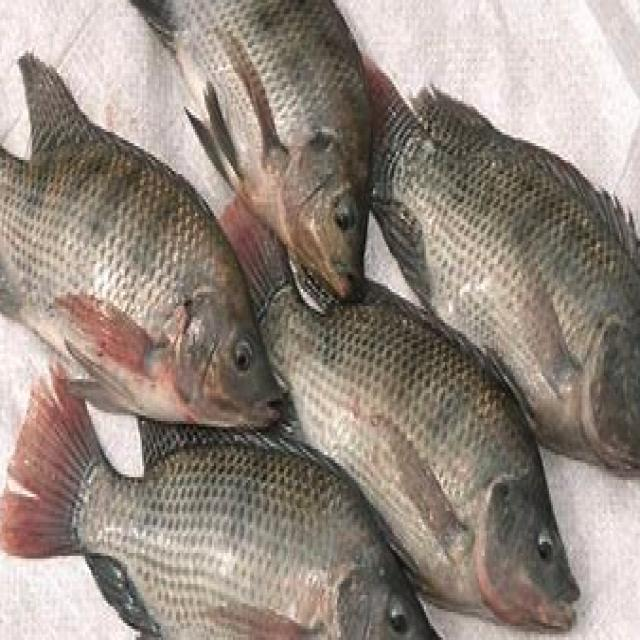Tilapia: (0, 53, 288, 430)
